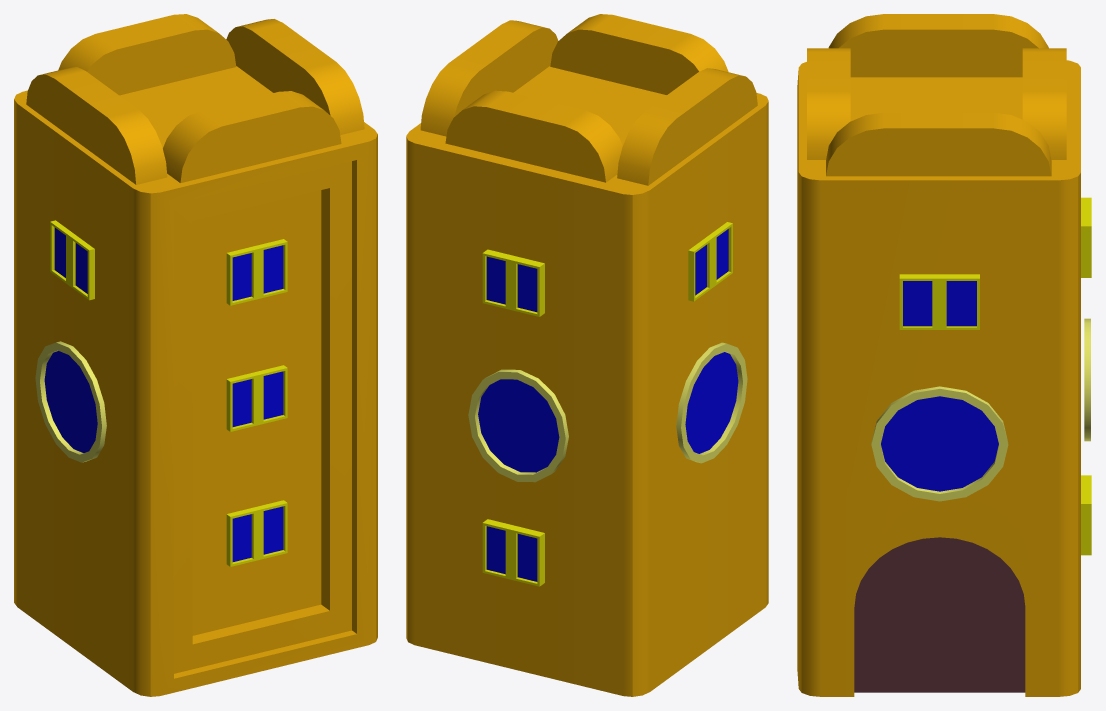
The picture shows the model from 3 angles, left to right: view 1: azimuth 30°, elevation 25°; view 2: azimuth 150°, elevation 25°; view 3: azimuth 270°, elevation 25°; orthographic projection. The views are drawn at different scales.
Parts seen in each view (by area): view 1: polySurface128, pCube81, pCube82, pCube83, pCube84, pTorus9, pCube109, pCube110, pCube111, pCube134; view 2: polySurface128, pCube82, pCube81, pCube83, pTorus8, pCube84, pTorus9, pCube114, pCube113, pCube134; view 3: polySurface128, pCube84, pTorus7, pCube83, pCube112, pCube81, pCube82, pCube113, pCube114, pTorus8.
Boxes of the visible parts, x1,y1,x2,y2 form: polySurface128: [14, 66, 377, 696]; pCube81: [163, 91, 341, 183]; pCube82: [58, 14, 236, 95]; pCube83: [26, 67, 167, 184]; pCube84: [226, 19, 364, 134]; pTorus9: [35, 341, 106, 462]; pCube109: [226, 239, 287, 305]; pCube110: [226, 365, 287, 431]; pCube111: [226, 500, 287, 566]; pCube134: [50, 220, 94, 300]; polySurface128: [406, 66, 768, 696]; pCube82: [445, 90, 622, 182]; pCube81: [550, 14, 728, 94]; pCube83: [617, 68, 757, 185]; pTorus8: [468, 369, 568, 482]; pCube84: [420, 20, 558, 136]; pTorus9: [676, 342, 747, 463]; pCube114: [482, 519, 544, 586]; pCube113: [482, 249, 544, 316]; pCube134: [688, 222, 732, 301]; polySurface128: [797, 60, 1080, 696]; pCube84: [826, 112, 1051, 176]; pTorus7: [871, 386, 1008, 501]; pCube83: [828, 14, 1048, 77]; pCube112: [899, 274, 979, 329]; pCube81: [807, 48, 850, 159]; pCube82: [1022, 48, 1066, 159]; pCube113: [1081, 197, 1091, 277]; pCube114: [1081, 475, 1091, 555]; pTorus8: [1084, 318, 1090, 441].
Bounding box in the file's own units: 18.67 × 37.38 × 17.67.
